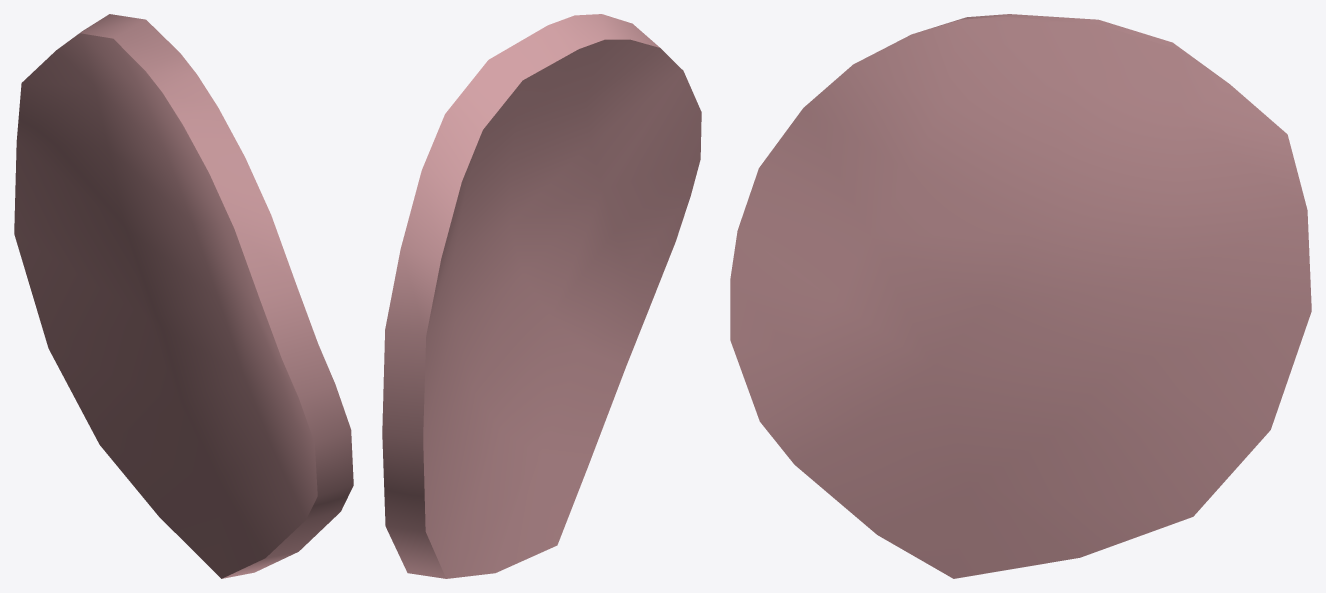
The picture shows the model from 3 angles, left to right: view 1: azimuth 30°, elevation 25°; view 2: azimuth 150°, elevation 25°; view 3: azimuth 270°, elevation 25°; orthographic projection. The views are drawn at different scales.
Parts seen in each view (by area): view 1: ZA_995c255b31274a90; view 2: ZA_995c255b31274a90; view 3: ZA_995c255b31274a90.
Boxes of the visible parts, <box> form: ZA_995c255b31274a90: <box>14,14,353,578</box>; ZA_995c255b31274a90: <box>382,14,701,578</box>; ZA_995c255b31274a90: <box>730,14,1311,578</box>.
Bounding box in the file's own units: 0.00907 × 0.0431 × 0.0423.
